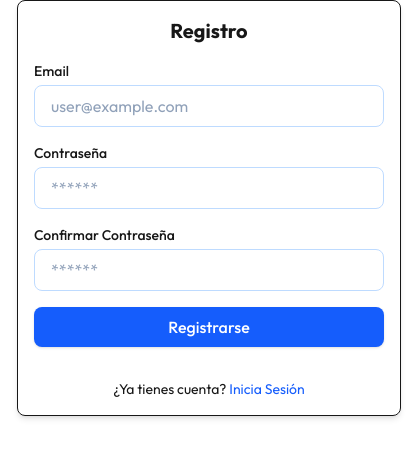
Signup Flow › validates password mismatch
The image size is (419, 457).
Type "test@example.com" into the field labelled "Email" at (209, 106), box [34,85,384,127]
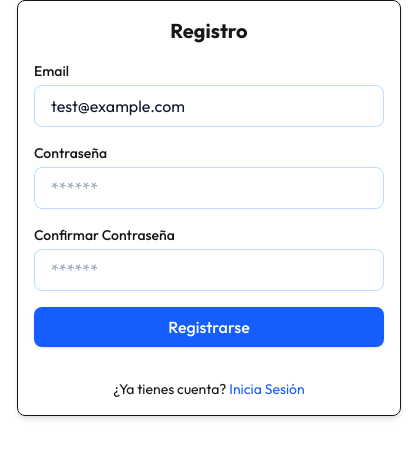
Type "password123" into the password field labelled "Contraseña" at (209, 188), box [34,167,384,209]
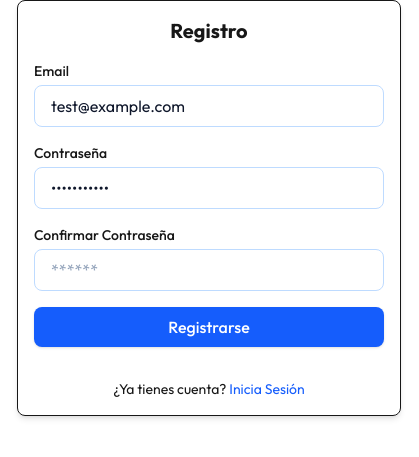
Type "password456" into the password field labelled "Confirmar Contraseña" at (209, 270), box [34,249,384,291]
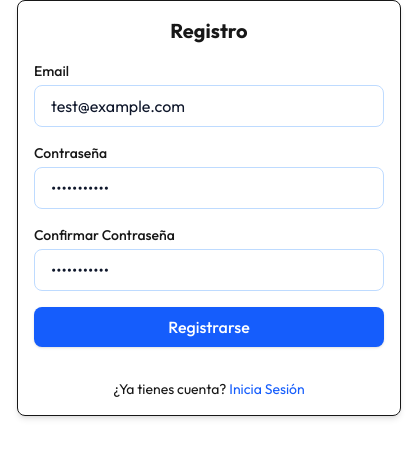
Click the button "Registrarse" at (209, 327), box [34,307,384,347]
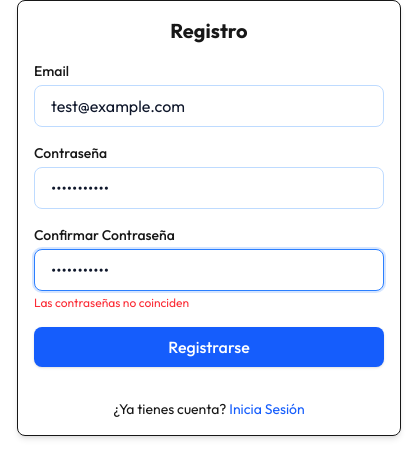
Now the text "Las contraseñas no coinciden" is shown, box [34,295,189,310]
